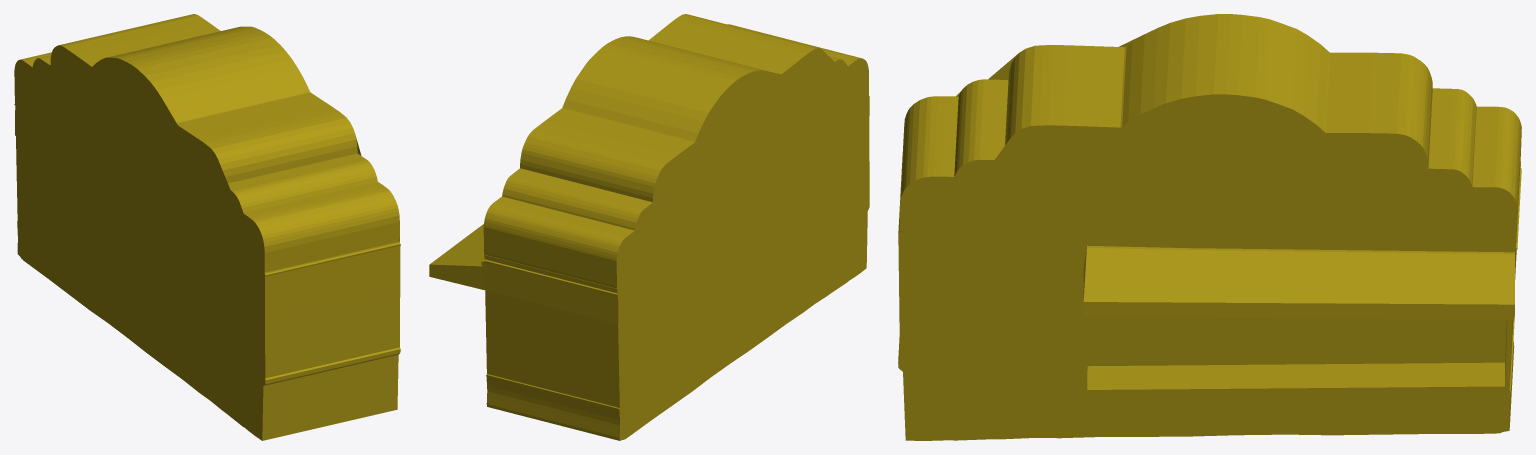
Rendered from batiment 1.fbx.
The picture shows the model from 3 angles, left to right: view 1: azimuth 30°, elevation 25°; view 2: azimuth 150°, elevation 25°; view 3: azimuth 270°, elevation 25°; orthographic projection. The views are drawn at different scales.
Parts seen in each view (by area): view 1: magazin1; view 2: magazin1; view 3: magazin1.
Boxes of the visible parts, x1=… form: magazin1: x1=14, y1=14, x2=400, y2=440; magazin1: x1=429, y1=14, x2=869, y2=440; magazin1: x1=898, y1=14, x2=1521, y2=440.
Bounding box in the file's own units: 55.81 × 79.03 × 129.
